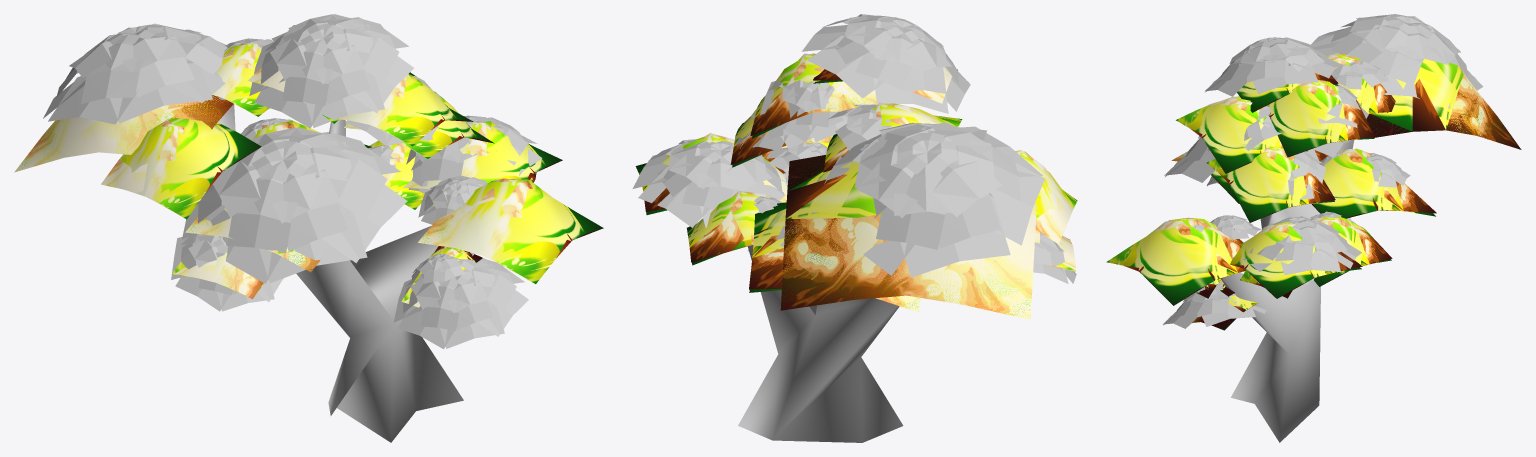
Rendered from tree-1.obj.
The picture shows the model from 3 angles, left to right: view 1: azimuth 30°, elevation 25°; view 2: azimuth 150°, elevation 25°; view 3: azimuth 270°, elevation 25°; orthographic projection. The views are drawn at different scales.
Parts seen in each view (by area): view 1: leaf1.023_leaf, leaf2.003_Material.001, tree2_tree2, leaf2.011_Material.002; view 2: leaf1.023_leaf, leaf2.011_Material.002, tree2_tree2, leaf2.003_Material.001; view 3: leaf2.003_Material.001, leaf1.023_leaf, leaf2.011_Material.002, tree2_tree2.
Boxes of the visible parts, x1,y1,x2,y2 form: leaf1.023_leaf: (43,14,542,349); leaf2.003_Material.001: (15,43,603,307); tree2_tree2: (217,104,474,442); leaf2.011_Material.002: (14,43,600,307); leaf1.023_leaf: (632,14,1076,283); leaf2.011_Material.002: (636,53,1075,319); tree2_tree2: (738,245,903,442); leaf2.003_Material.001: (635,53,1077,317); leaf2.003_Material.001: (1106,53,1520,330); leaf1.023_leaf: (1163,14,1483,328); leaf2.011_Material.002: (1124,54,1521,329); tree2_tree2: (1221,140,1354,442).
Size of the model in its own units: 6.17 by 5.26 by 5.72.
